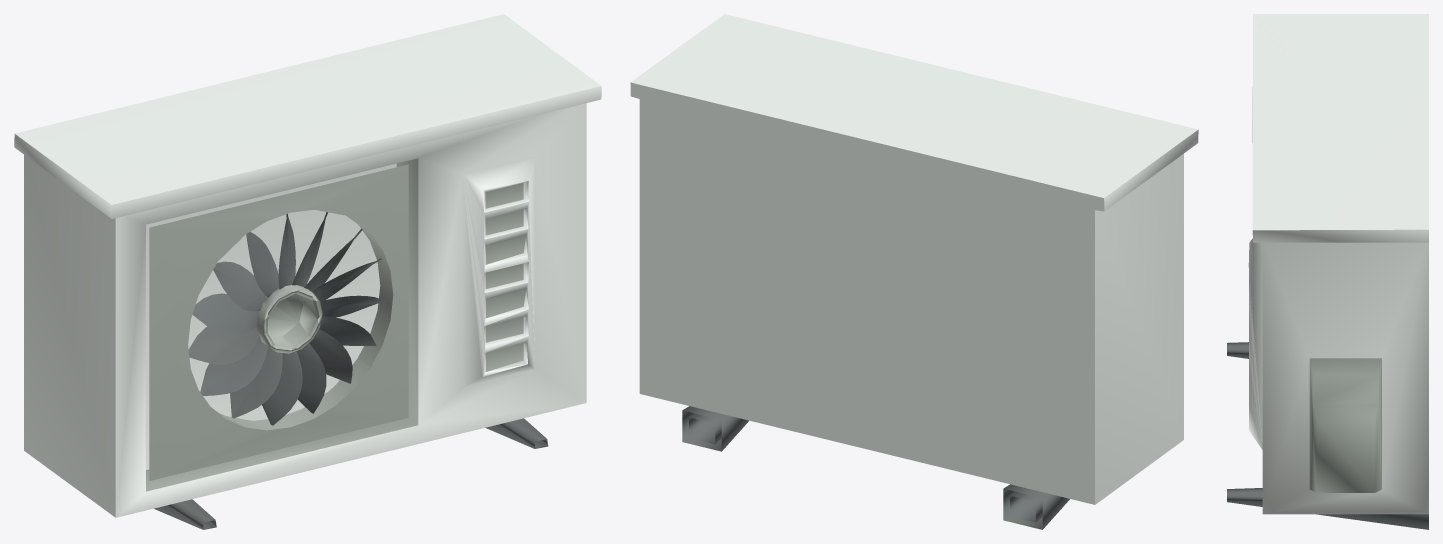
File: AirConditionerOutdoor.glb
3 views of the same model, side by side, from view 1: azimuth 30°, elevation 25°; view 2: azimuth 150°, elevation 25°; view 3: azimuth 270°, elevation 25° (orthographic). The views are drawn at different scales.
Parts seen in each view (by area): view 1: AirConditionerOutdoor; view 2: AirConditionerOutdoor; view 3: AirConditionerOutdoor.
Boxes of the visible parts, x1,y1,x2,y2 form: AirConditionerOutdoor: [14, 14, 601, 529]; AirConditionerOutdoor: [630, 14, 1198, 529]; AirConditionerOutdoor: [1227, 14, 1428, 529].
Size of what is drawn, in the model's own units: 1.25 by 0.8501 by 0.48.
Materials: 1 (1 with a texture image).
